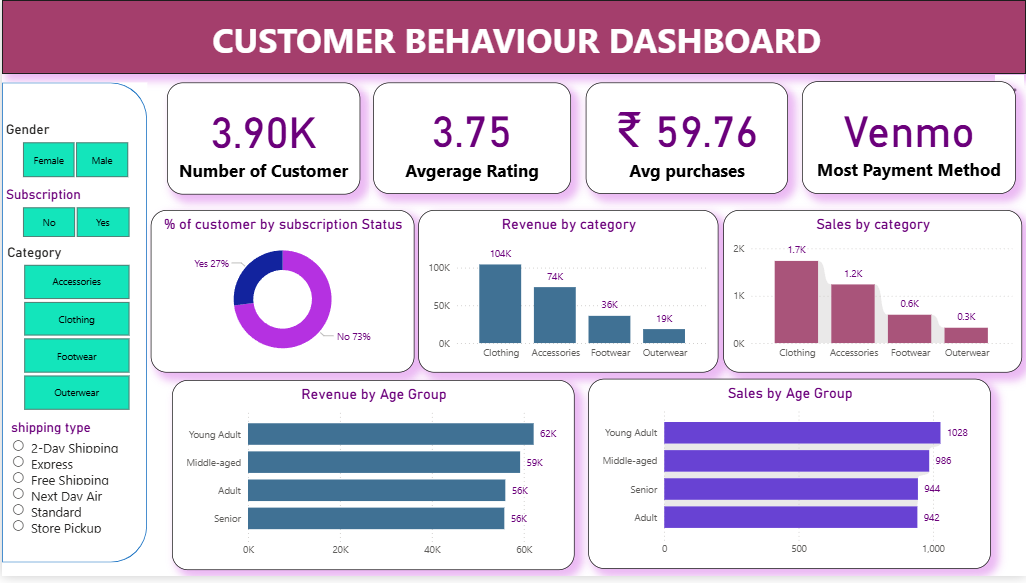

What the dashboard file says about the page in this screenshot:
{"tool":"powerbi","page":{"name":"Dashboard","canvas":[1280,720],"ordinal":0},"visuals":[{"type":"shape","box":[0,0,1280,91.4],"z":0},{"type":"textbox","box":[257.1,15.7,807.1,150],"z":1000},{"type":"shape","box":[0,103.1,181.2,600],"z":2000},{"type":"card","title":"Number of Customer","fields":{"Values":["shopping_db shopping_data.Customer"]},"box":[206,102.6,241.4,140],"z":3000},{"type":"card","title":"Number of Customer","fields":{"Values":["shopping_db shopping_data.Avg purchases"]},"box":[729.7,103.1,253.1,139.1],"z":4000},{"type":"card","title":"Number of Customer","fields":{"Values":["shopping_db shopping_data.Avg Rating"]},"box":[464.1,103.1,246.9,139.1],"z":5000},{"type":"donutChart","title":"% of customer by subscription Status","fields":{"Category":["shopping_db shopping_data.subscription_status"],"Y":["CountNonNull(shopping_db shopping_data.customer_id)"]},"box":[185.9,263,329.7,203.1],"z":6000},{"type":"columnChart","title":"Revenue by category","fields":{"Category":["shopping_db shopping_data.category"],"Y":["Sum(shopping_db shopping_data.purchase_amount)"]},"box":[520.3,263,375,203.1],"z":7000},{"type":"columnChart","title":"Sales by category","fields":{"Category":["shopping_db shopping_data.category"],"Y":["CountNonNull(shopping_db shopping_data.purchase_amount)"]},"box":[901.6,263,373.4,203.1],"z":8000},{"type":"slicer","title":"Gender","fields":{"Values":["shopping_db shopping_data.gender"]},"box":[0,146.9,181.2,81.2],"z":9000},{"type":"slicer","title":"Subscription","fields":{"Values":["shopping_db shopping_data.subscription_status"]},"box":[0,228.1,182.8,75],"z":10000},{"type":"slicer","title":"Category","fields":{"Values":["shopping_db shopping_data.category"]},"box":[1.6,300,181.2,218.8],"z":11000},{"type":"listSlicer","title":"shipping type","fields":{"Values":["shopping_db shopping_data.shipping_type"]},"box":[6.2,518.8,167.2,198.4],"z":12000},{"type":"card","title":"Number of Customer","fields":{"Values":["shopping_db shopping_data.Most Payment Method"]},"box":[1000,101.6,267.2,140.6],"z":12001},{"type":"barChart","title":"Revenue by Age Group","fields":{"Category":["shopping_db shopping_data.age_group"],"Y":["Sum(shopping_db shopping_data.purchase_amount)"]},"box":[212.5,475,503.1,237.5],"z":12002},{"type":"barChart","title":"Sales by Age Group","fields":{"Category":["shopping_db shopping_data.age_group"],"Y":["CountNonNull(shopping_db shopping_data.purchase_amount)"]},"box":[732.8,473.4,503.1,237.5],"z":12003}]}

Visuals, with their boxes in screenshot pixels (x1, y1, x2, y2), scaled from the page's 1280x720 canvas onto the 1026x583 screenshot:
shape: (left=0, top=0, right=1025, bottom=74)
textbox: (left=206, top=13, right=853, bottom=134)
shape: (left=0, top=83, right=145, bottom=569)
"Number of Customer" card: (left=165, top=83, right=359, bottom=196)
"Number of Customer" card: (left=585, top=83, right=788, bottom=196)
"Number of Customer" card: (left=372, top=83, right=570, bottom=196)
"% of customer by subscription Status" donutChart: (left=149, top=213, right=413, bottom=377)
"Revenue by category" columnChart: (left=417, top=213, right=718, bottom=377)
"Sales by category" columnChart: (left=723, top=213, right=1022, bottom=377)
"Gender" slicer: (left=0, top=119, right=145, bottom=185)
"Subscription" slicer: (left=0, top=185, right=147, bottom=245)
"Category" slicer: (left=1, top=243, right=147, bottom=420)
"shipping type" listSlicer: (left=5, top=420, right=139, bottom=581)
"Number of Customer" card: (left=802, top=82, right=1016, bottom=196)
"Revenue by Age Group" barChart: (left=170, top=385, right=574, bottom=577)
"Sales by Age Group" barChart: (left=587, top=383, right=991, bottom=576)
